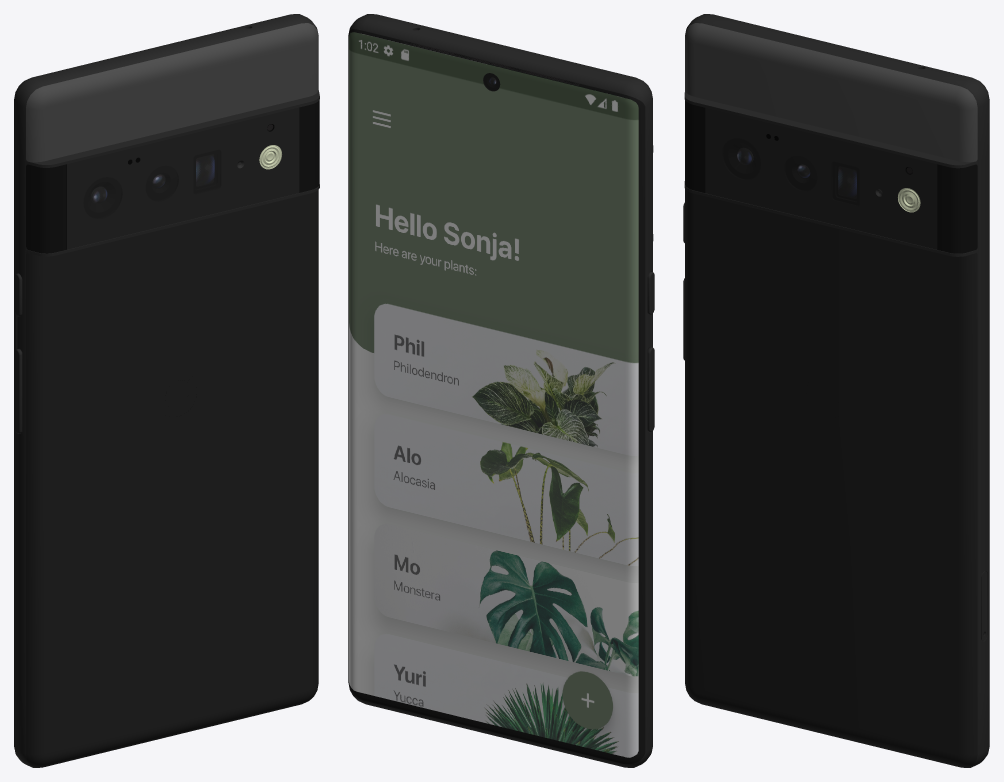
File: phone.glb
3 renders of one model, left to right at view 1: azimuth 30°, elevation 25°; view 2: azimuth 150°, elevation 25°; view 3: azimuth 330°, elevation 25°, orthographic.
Parts seen in each view (by area): view 1: BackBody., Frame, RecCam, Buttons, CircleCam2, CircleCam, Bezel, Lens3; view 2: Screen, Frame, Bezel, Buttons; view 3: BackBody., Frame, RecCam, CircleCam2, CircleCam, Bezel, Lens3.
Boxes of the visible parts, x1,y1,x2,y2 form: BackBody.: (26, 23, 318, 767); Frame: (14, 14, 319, 767); RecCam: (193, 149, 221, 194); Buttons: (14, 273, 22, 433); CircleCam2: (83, 177, 122, 218); CircleCam: (145, 165, 178, 201); Bezel: (14, 94, 15, 749); Lens3: (196, 154, 214, 186); Screen: (349, 32, 638, 757); Frame: (349, 14, 653, 767); Bezel: (348, 29, 645, 764); Buttons: (647, 271, 654, 431); BackBody.: (685, 23, 977, 767); Frame: (684, 14, 988, 767); RecCam: (831, 161, 859, 206); CircleCam2: (722, 138, 760, 180); CircleCam: (784, 156, 817, 191); Bezel: (988, 95, 989, 750); Lens3: (838, 166, 856, 198).
Bounding box in the file's own units: 0.1036 × 0.2268 × 0.0153.
17 materials, 3 textured.
